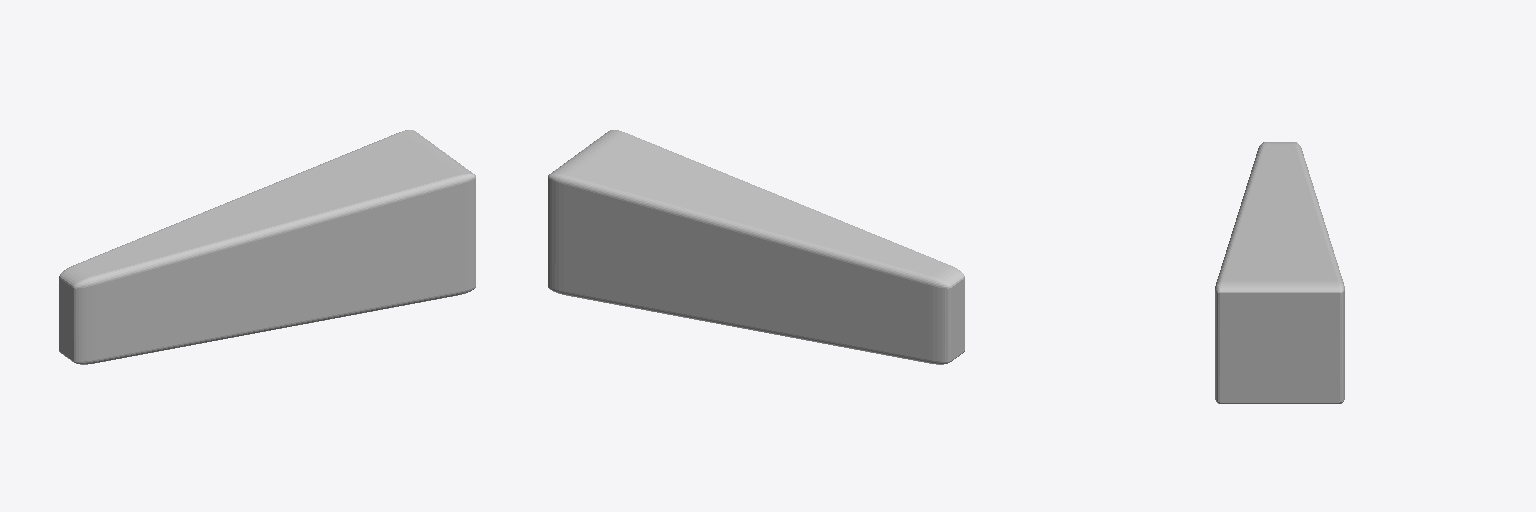
The model's file is paddleRight.obj.
3 views of the same model, side by side, from view 1: azimuth 30°, elevation 25°; view 2: azimuth 150°, elevation 25°; view 3: azimuth 270°, elevation 25° (orthographic).
Parts seen in each view (by area): view 1: Cube; view 2: Cube; view 3: Cube.
Part boxes in pixels (bbox=[...]): Cube: bbox=[59, 130, 475, 364]; Cube: bbox=[548, 130, 964, 364]; Cube: bbox=[1215, 142, 1344, 403].
Bounding box in the file's own units: 6.57 × 1.98 × 1.95.